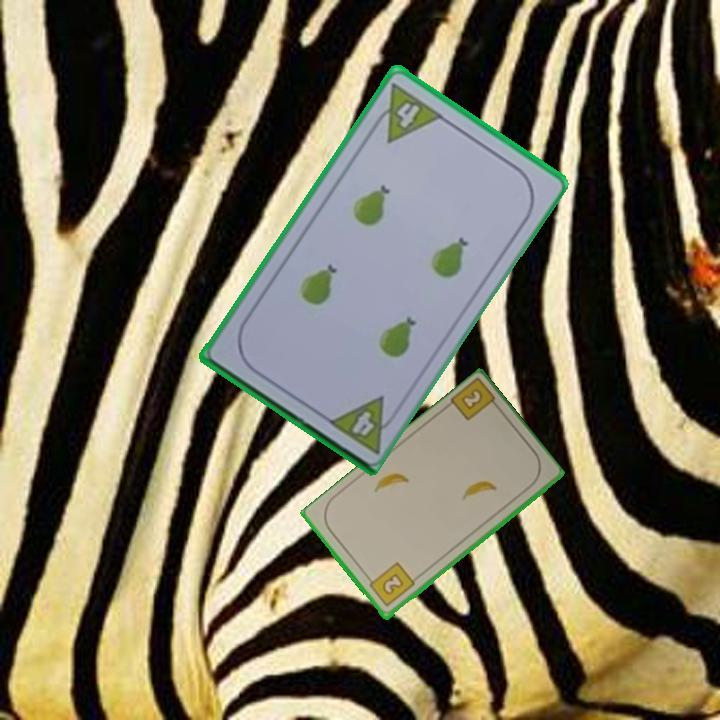2b: (363, 559, 418, 610), (446, 377, 504, 424)
4p: (366, 79, 446, 146), (323, 392, 403, 456)
